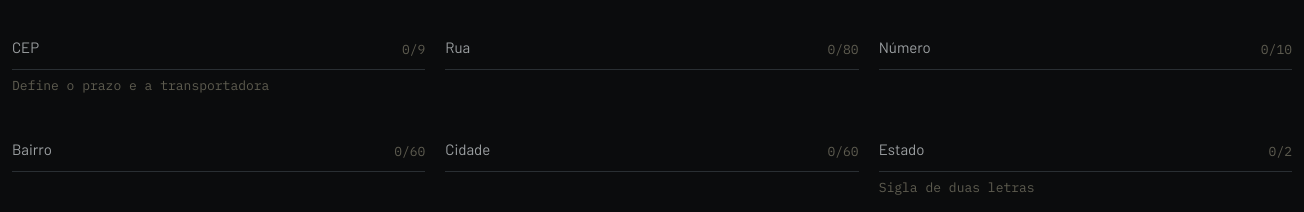
Test: DeliveryStep › exibe erro ao sair de campo obrigatório vazio
This screenshot has width=1304, height=212.
Click the field labelled "Rua" at point(652, 43), box [445, 16, 859, 70]
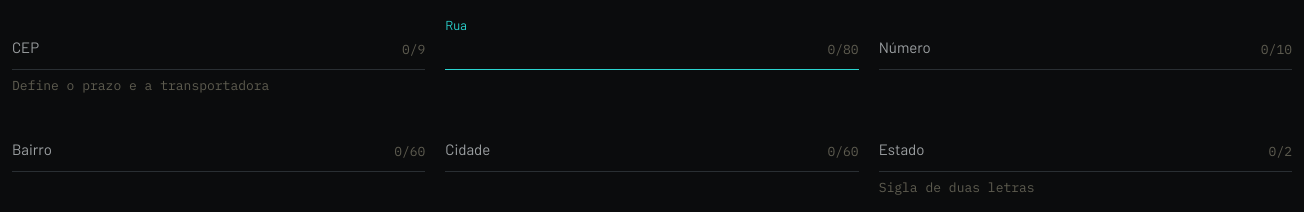
Press Tab
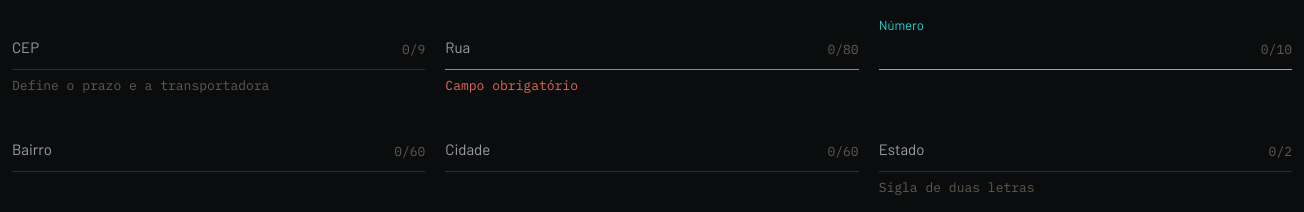
Expected: the text "Campo obrigatório" is shown, [445, 77, 578, 94]
